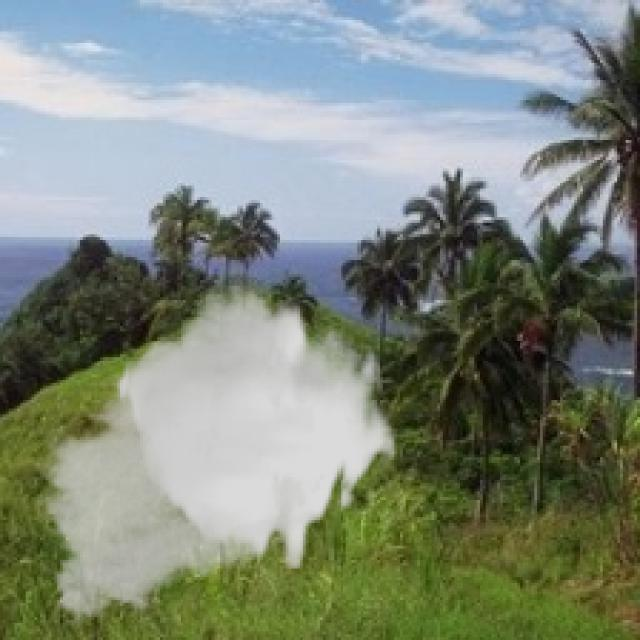smoke: (32, 286, 397, 634)
